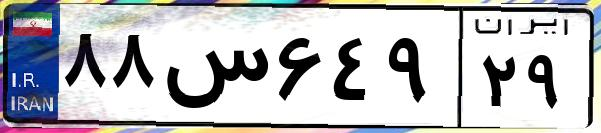2: (475, 38, 525, 113)
4: (330, 28, 385, 110)
6: (270, 28, 330, 110)
8: (57, 26, 110, 100), (110, 28, 158, 98)
9: (385, 28, 445, 110), (525, 38, 570, 115)
س: (158, 20, 270, 120)
